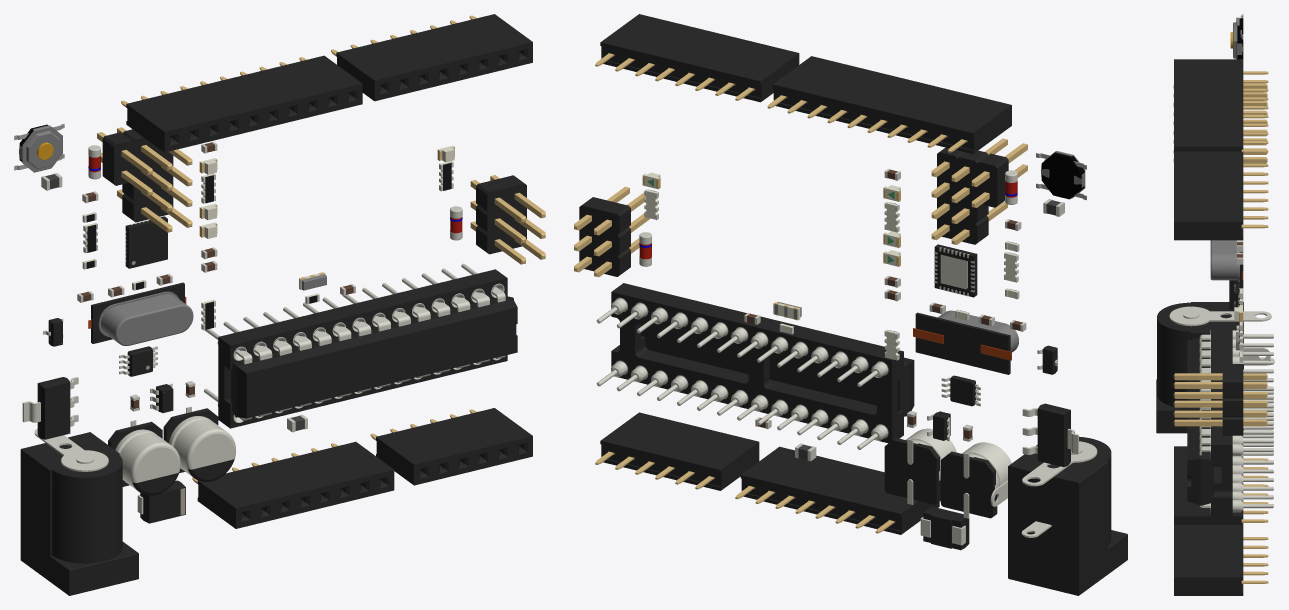
File: uno-r3.glb
3 renders of one model, left to right at view 1: azimuth 30°, elevation 25°; view 2: azimuth 150°, elevation 25°; view 3: azimuth 270°, elevation 25°, orthographic. The views are drawn at different scales.
Parts seen in each view (by area): view 1: plastic-0.02-0.02-0.02, metal-0.6, gold, plastic-0.22-0.22-0.22, plastic-0.78-0.77-0.63, plastic-0.01-0.01-0.01, plastic-0.12-0.06-0.04; view 2: plastic-0.02-0.02-0.02, metal-0.6, gold, plastic-0.78-0.77-0.63, plastic-0.00-0.00-0.00, plastic-0.22-0.22-0.22, plastic-0.12-0.06-0.04; view 3: plastic-0.02-0.02-0.02, gold, metal-0.6, plastic-0.22-0.22-0.22, plastic-0.78-0.77-0.63, plastic-0.00-0.00-0.00.
Boxes of the visible parts, <box> form: plastic-0.02-0.02-0.02: <box>20,14,532,595</box>; metal-0.6: <box>22,141,505,514</box>; gold: <box>97,15,545,483</box>; plastic-0.22-0.22-0.22: <box>19,125,326,345</box>; plastic-0.78-0.77-0.63: <box>83,145,454,329</box>; plastic-0.01-0.01-0.01: <box>86,162,451,329</box>; plastic-0.12-0.06-0.04: <box>80,142,353,408</box>; plastic-0.02-0.02-0.02: <box>579,14,1127,595</box>; metal-0.6: <box>596,168,1097,545</box>; gold: <box>574,53,1027,533</box>; plastic-0.78-0.77-0.63: <box>643,172,1018,360</box>; plastic-0.00-0.00-0.00: <box>1041,152,1084,199</box>; plastic-0.22-0.22-0.22: <box>774,151,1085,352</box>; plastic-0.12-0.06-0.04: <box>747,169,1022,438</box>; plastic-0.02-0.02-0.02: <box>1156,59,1243,595</box>; gold: <box>1173,71,1268,583</box>; metal-0.6: <box>1169,240,1274,512</box>; plastic-0.22-0.22-0.22: <box>1210,17,1242,350</box>; plastic-0.78-0.77-0.63: <box>1234,288,1243,356</box>; plastic-0.00-0.00-0.00: <box>1237,18,1243,59</box>.
Bounding box in the file's own units: 64.29 × 52.99 × 14.59.
